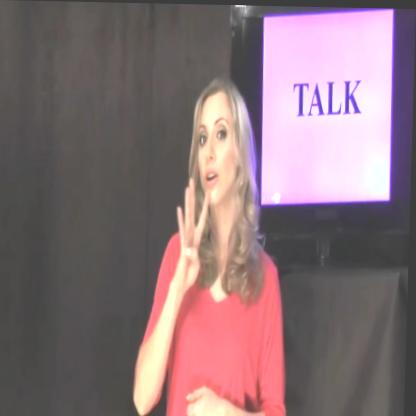Talk: (168, 76, 268, 314)
